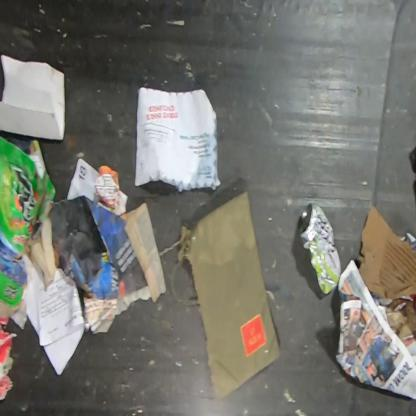cardboard: (0, 135, 58, 327), (354, 204, 415, 302)
metal: (300, 202, 342, 296)
soft_plastic: (175, 191, 281, 397)
